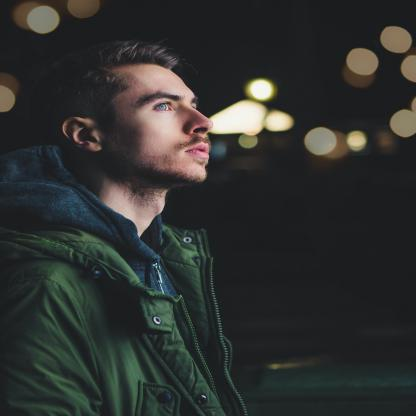Eye: (152, 100, 174, 112)
Mouth: (185, 144, 209, 159)
Nose: (184, 106, 213, 136)
